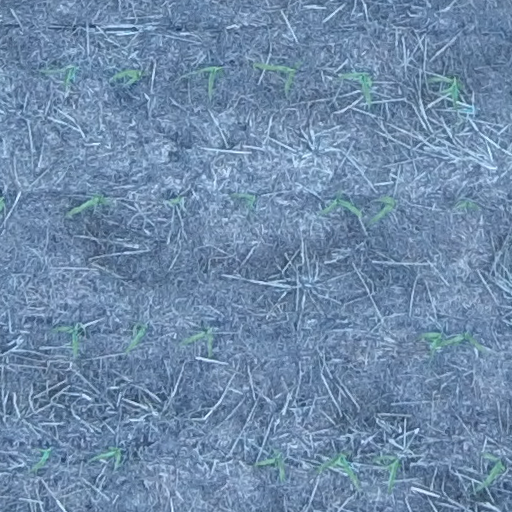planta: (315, 451, 359, 489), (253, 62, 301, 92), (428, 75, 463, 109), (338, 72, 374, 104), (477, 453, 506, 490), (67, 193, 109, 217), (321, 194, 363, 218), (373, 456, 400, 493), (253, 449, 284, 481), (181, 327, 213, 357), (368, 195, 397, 224), (195, 66, 222, 95), (442, 332, 484, 350), (55, 326, 79, 355), (418, 331, 445, 355), (44, 66, 76, 86), (126, 324, 147, 352), (92, 446, 121, 466), (30, 448, 50, 472), (112, 69, 146, 83), (233, 192, 255, 208), (457, 200, 478, 210), (169, 195, 182, 204)
